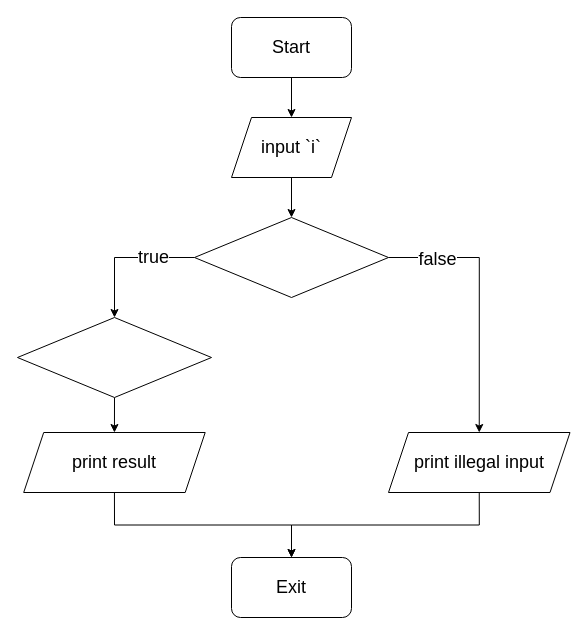
The diagram is 588 pixels wide and 635 high, and some of its shapes have lost their labels. The shapes that lost their labels are listed below. From the top down, each one's box as (x1, y1, x2, y2) in pixels, then its label:
(194, 216, 388, 298): 1000 <= i < 10000
(16, 316, 212, 398): isLeapYear
